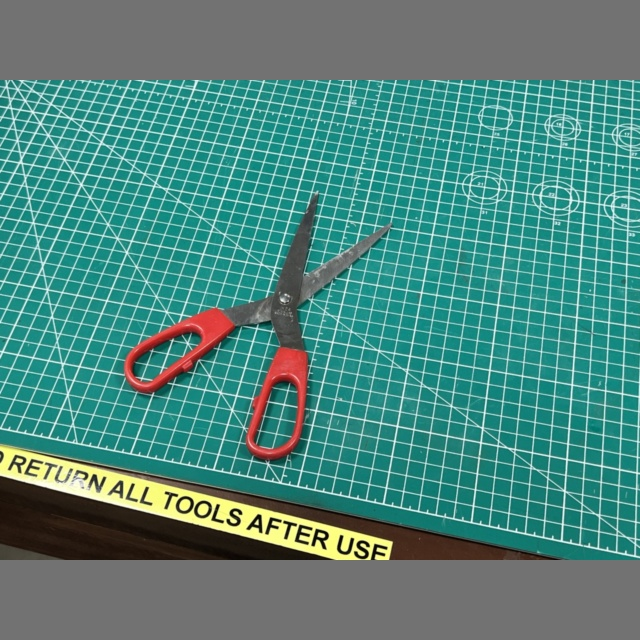scissor: (124, 192, 391, 460)
